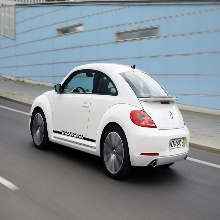no damage: (29, 62, 192, 179)
